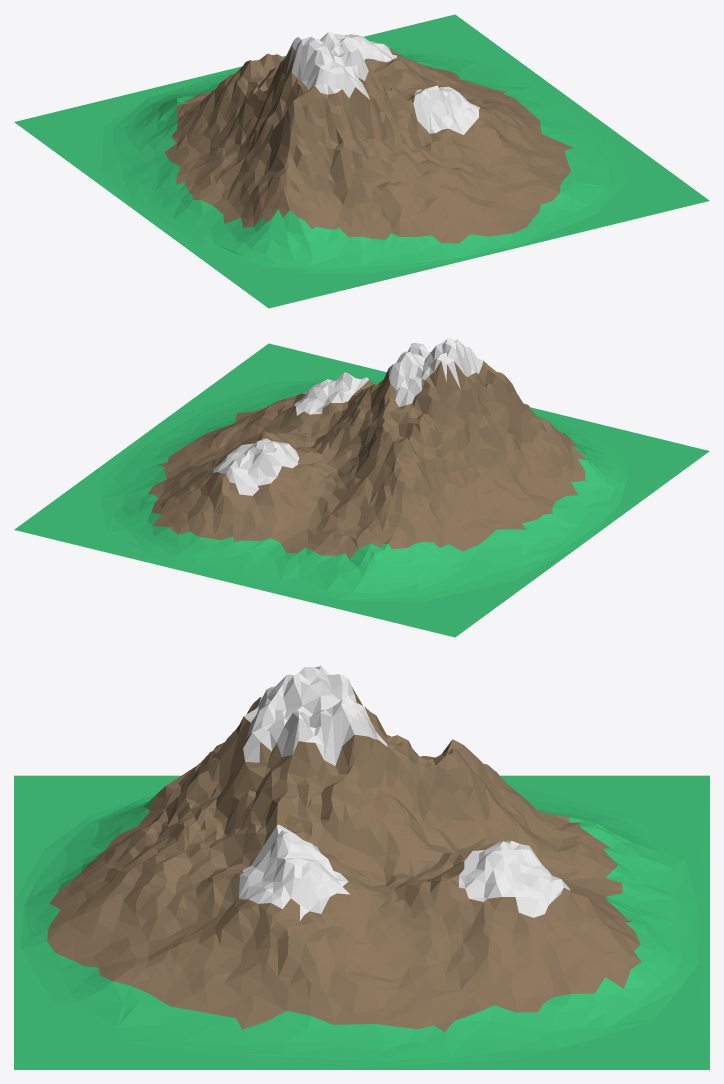
The model's file is mountains.fbx.
The picture shows the model from 3 angles, top to bottom: view 1: azimuth 30°, elevation 25°; view 2: azimuth 150°, elevation 25°; view 3: azimuth 270°, elevation 25°; orthographic projection. The views are drawn at different scales.
Parts seen in each view (by area): view 1: Landscape.001; view 2: Landscape.001; view 3: Landscape.001.
Part boxes in pixels (left/top/right/bottom): Landscape.001: left=14, top=14, right=709, bottom=308; Landscape.001: left=14, top=337, right=709, bottom=637; Landscape.001: left=14, top=666, right=709, bottom=1069.
Bounding box in the file's own units: 200 × 66.79 × 200.
